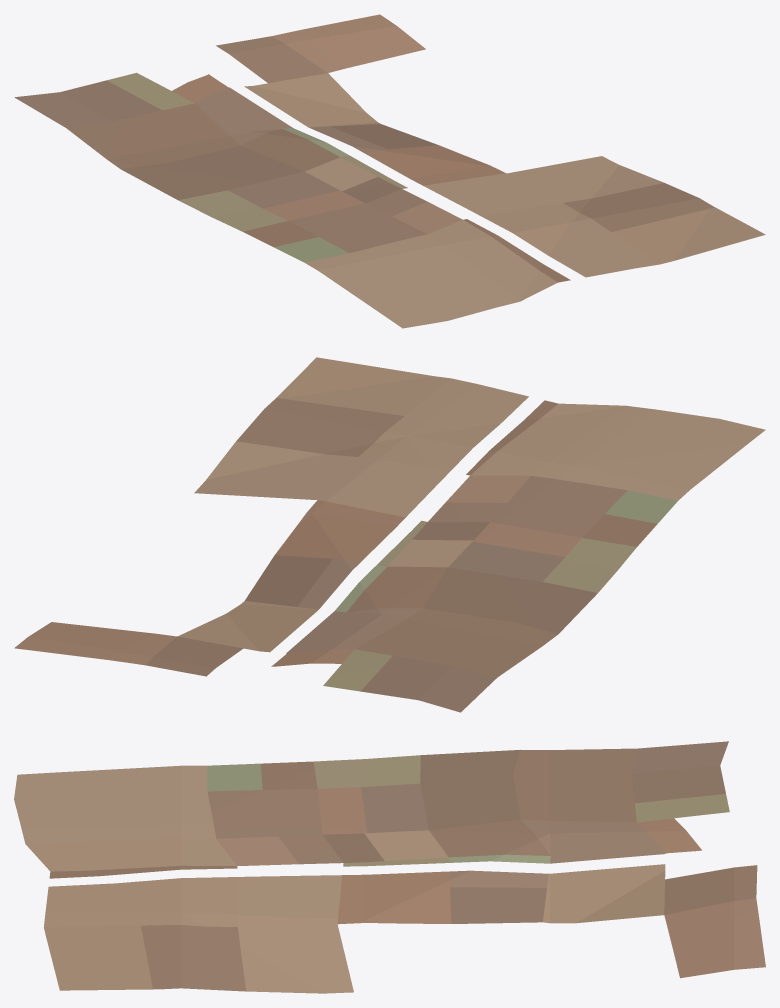
The model's file is farm_12_2_soil.glb.
The picture shows the model from 3 angles, top to bottom: view 1: azimuth 30°, elevation 25°; view 2: azimuth 150°, elevation 25°; view 3: azimuth 270°, elevation 25°; orthographic projection. The views are drawn at different scales.
Parts seen in each view (by area): view 1: geometry_0; view 2: geometry_0; view 3: geometry_0.
Part boxes in pixels (x1,y1,x2,y2): geometry_0: [14, 14, 765, 328]; geometry_0: [14, 357, 765, 712]; geometry_0: [14, 741, 765, 993].
Size of the model in its own units: 237 by 17.3 by 326.
